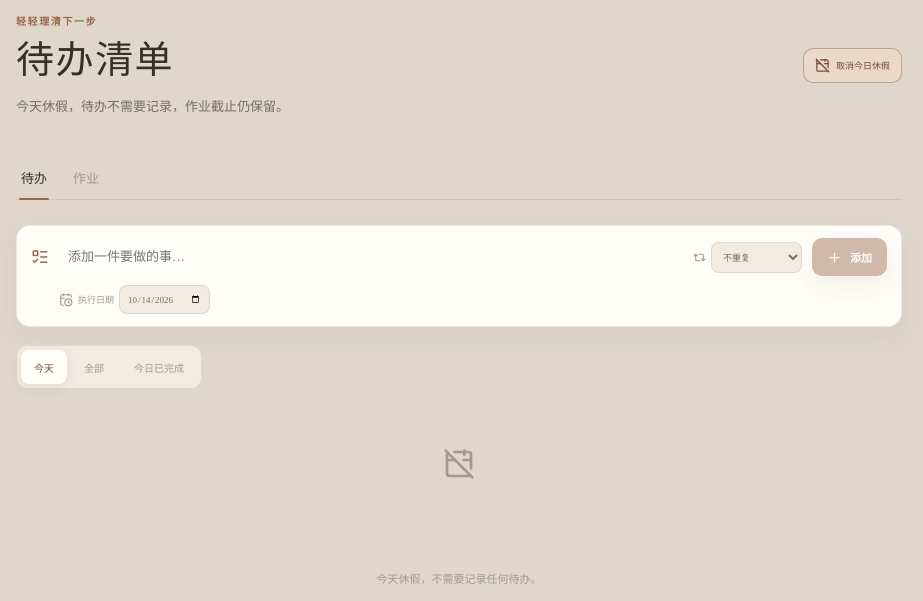
Scenario: minimal assignment paper UI › keeps deadlines visible during a holiday and renames the ordinary tab to 待办
Click the button "作业": (86, 178) [71,156,101,199]
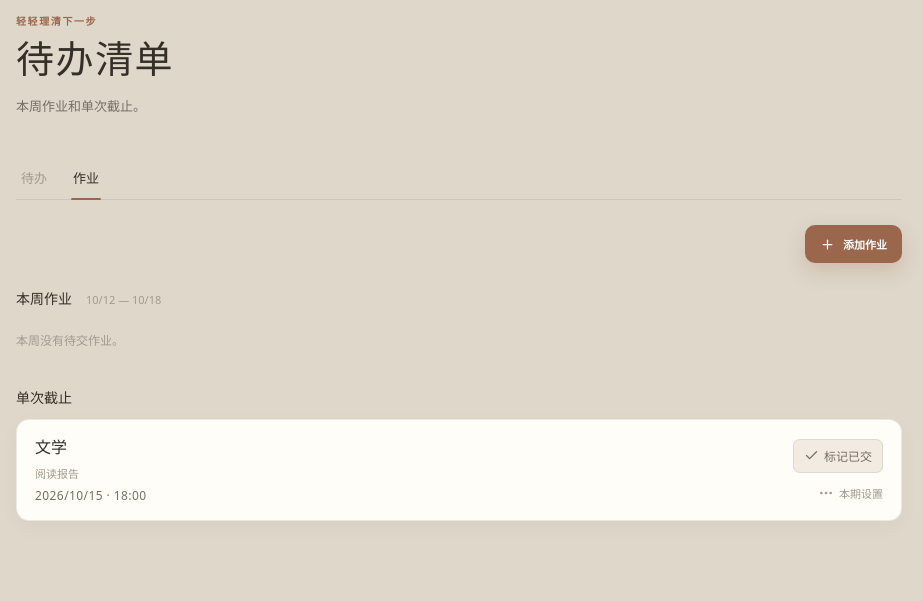
Expected: the text "阅读报告" is shown, [35,466,79,481]
Expected: the button "取消今日休假" is gone
Click the button "待办": (34, 178) [19,156,49,199]
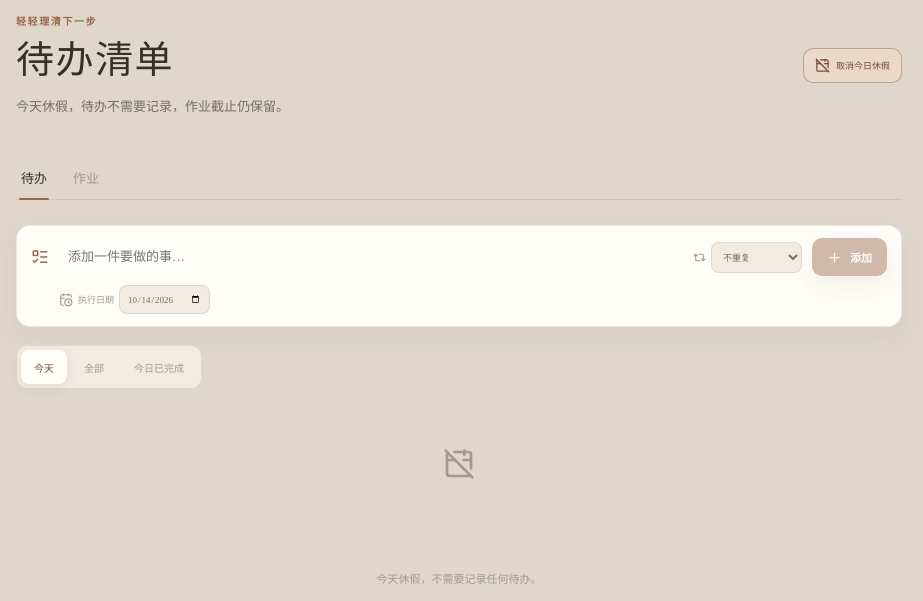
Expected: the button "取消今日休假" is shown, [803,48,902,83]
